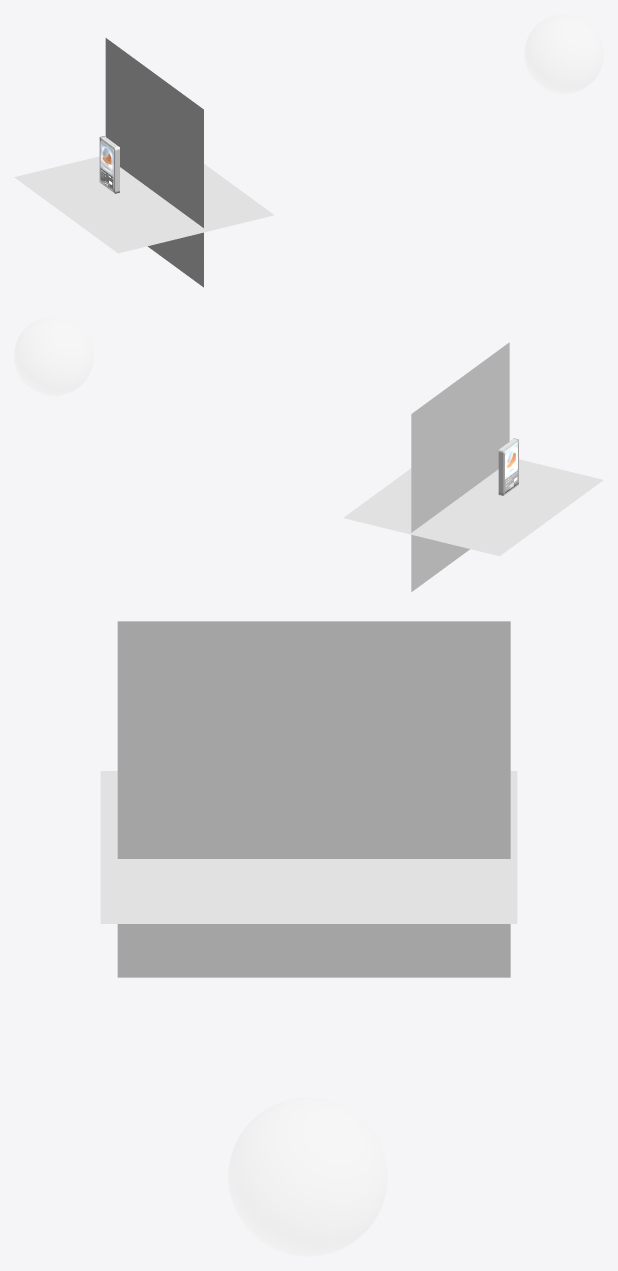
3 views of the same model, one above another, from view 1: azimuth 30°, elevation 25°; view 2: azimuth 150°, elevation 25°; view 3: azimuth 270°, elevation 25° (orthographic). The views are drawn at different scales.
Visible parts, largest first — view 1: 平面, Plane.001, PLANET3.001, Cube.002; view 2: 平面, Plane.001, PLANET3.001, Cube.002; view 3: 平面, Plane.001, PLANET3.001.
Boxes of the visible parts, x1=… form: 平面: x1=105, y1=38, x2=203, y2=287; Plane.001: x1=14, y1=156, x2=274, y2=253; PLANET3.001: x1=524, y1=14, x2=603, y2=93; Cube.002: x1=99, y1=136, x2=119, y2=193; 平面: x1=411, y1=342, x2=509, y2=591; Plane.001: x1=343, y1=459, x2=603, y2=556; PLANET3.001: x1=14, y1=316, x2=93, y2=396; Cube.002: x1=498, y1=438, x2=518, y2=495; 平面: x1=117, y1=621, x2=510, y2=977; Plane.001: x1=100, y1=771, x2=517, y2=923; PLANET3.001: x1=228, y1=1097, x2=387, y2=1256.
Bounding box in the file's own units: 46.92 × 15 × 15.9.
11 materials, 1 textured.
